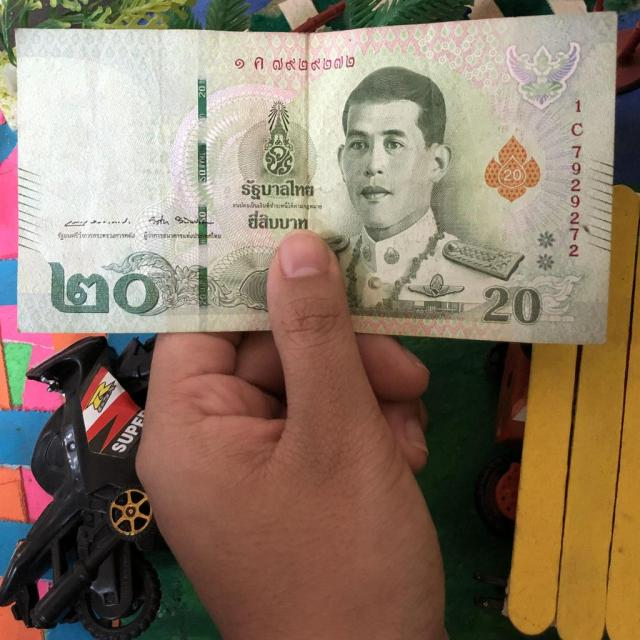THAI20: (17, 13, 615, 344)
